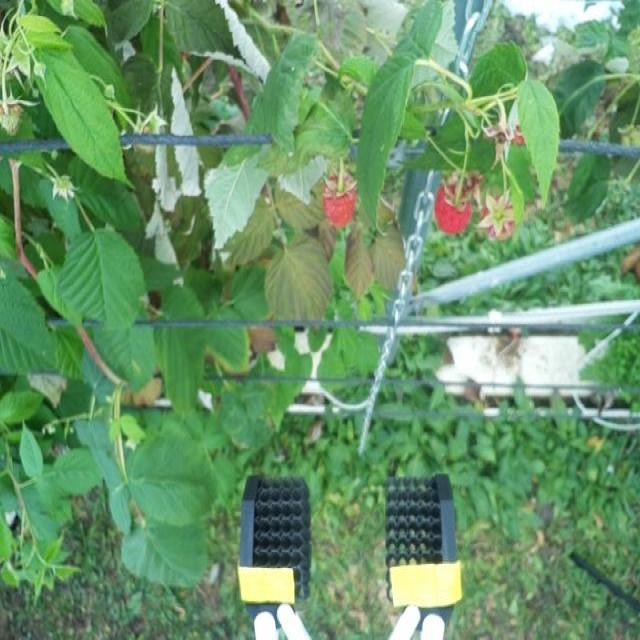Riped berries: (434, 178, 476, 237), (319, 168, 358, 231), (483, 191, 521, 240)
